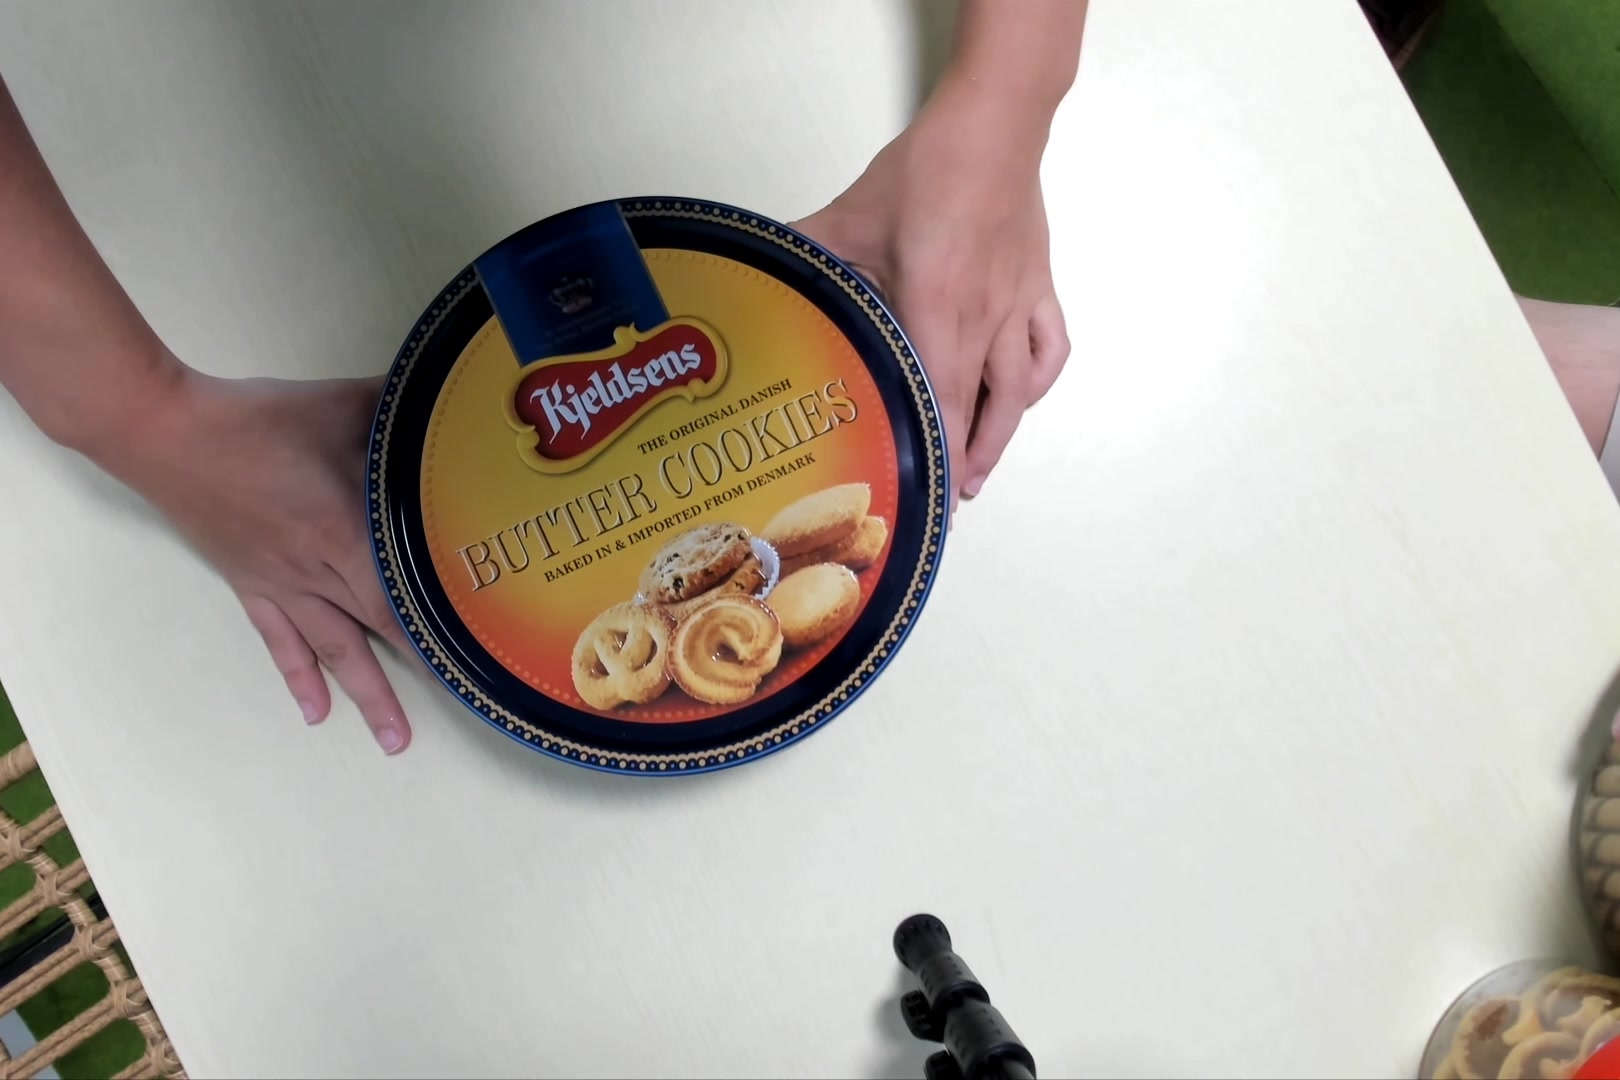BiscuitsCrackersCookies_400-499g_Halal_NonHealthy: (366, 200, 947, 800)
